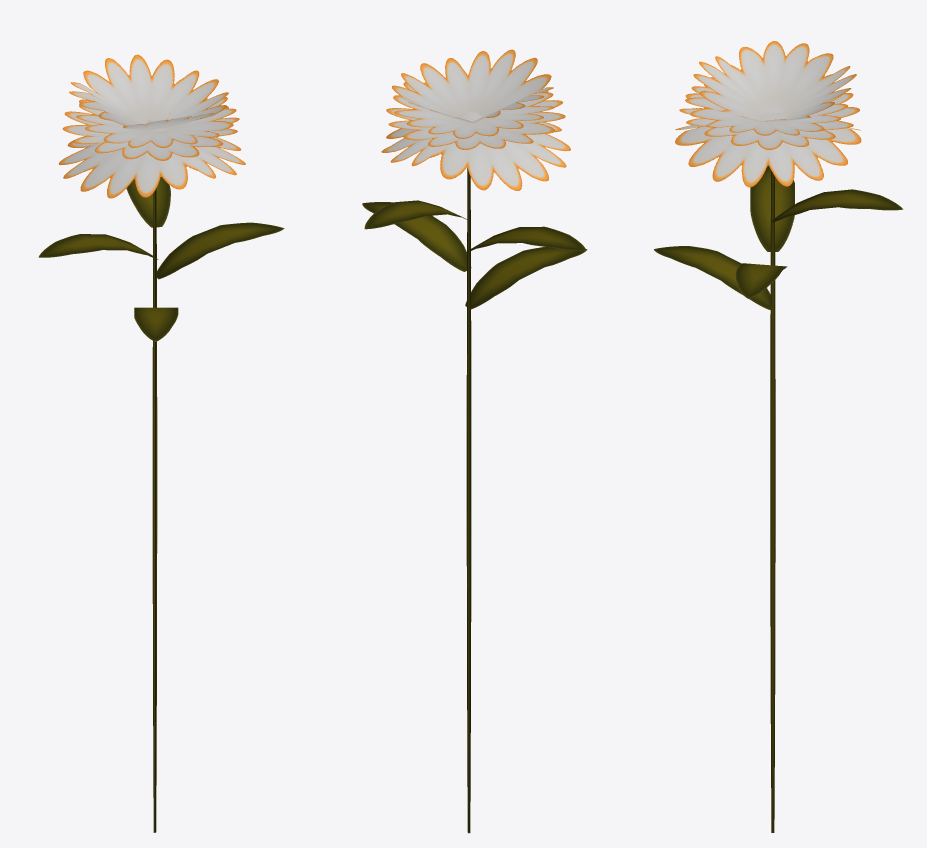
Rendered from SM_flower_03.glb.
3 views of the same model, side by side, from view 1: azimuth 30°, elevation 25°; view 2: azimuth 150°, elevation 25°; view 3: azimuth 270°, elevation 25° (orthographic).
Visible parts, largest first — view 1: SM_flower_03; view 2: SM_flower_03; view 3: SM_flower_03.
Boxes of the visible parts, bbox=[...] form: SM_flower_03: bbox=[38, 54, 284, 832]; SM_flower_03: bbox=[362, 49, 587, 833]; SM_flower_03: bbox=[654, 41, 903, 832].
Size of the model in its own units: 0.2971 by 0.9041 by 0.2869.
Materials: 1 (1 with a texture image).
